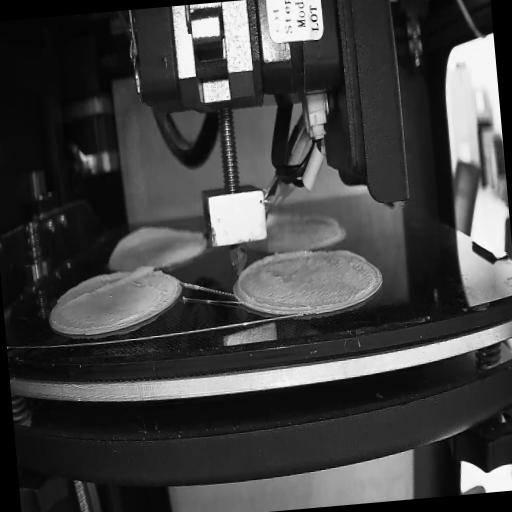over_extrusion: (235, 249, 324, 308), (59, 262, 158, 308), (103, 218, 203, 260), (301, 208, 342, 232), (332, 247, 366, 267)
